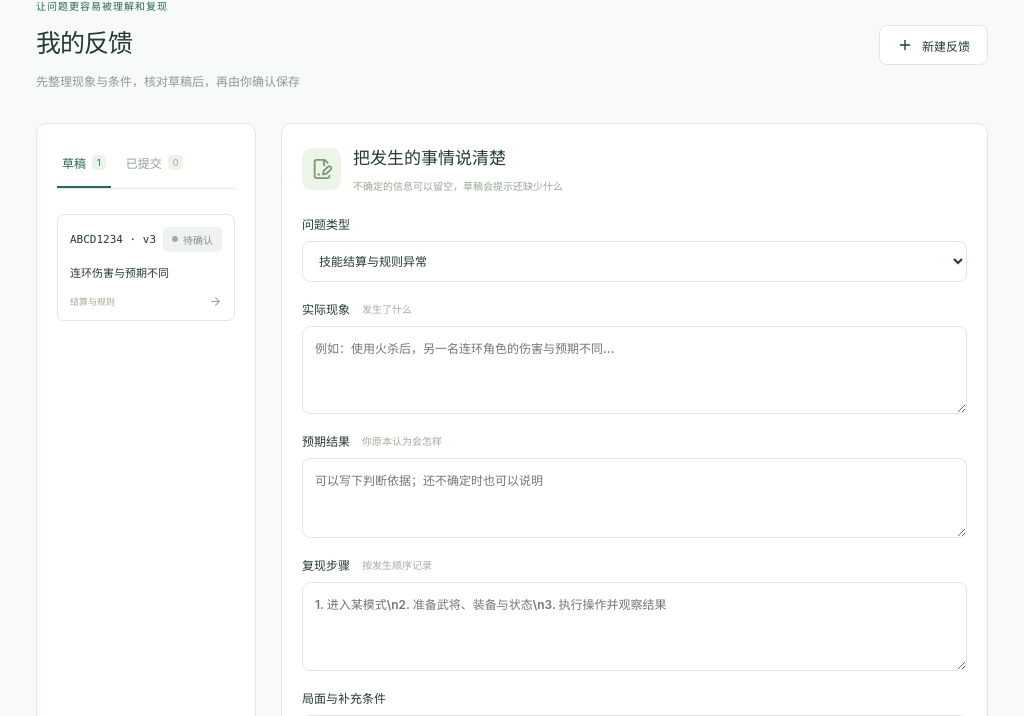
Test: requires an explicit confirmation and submits the displayed draft revision only once
Click the text "连环伤害与预期不同" at (120, 273), box [70,266,169,280]
(page scrolled)
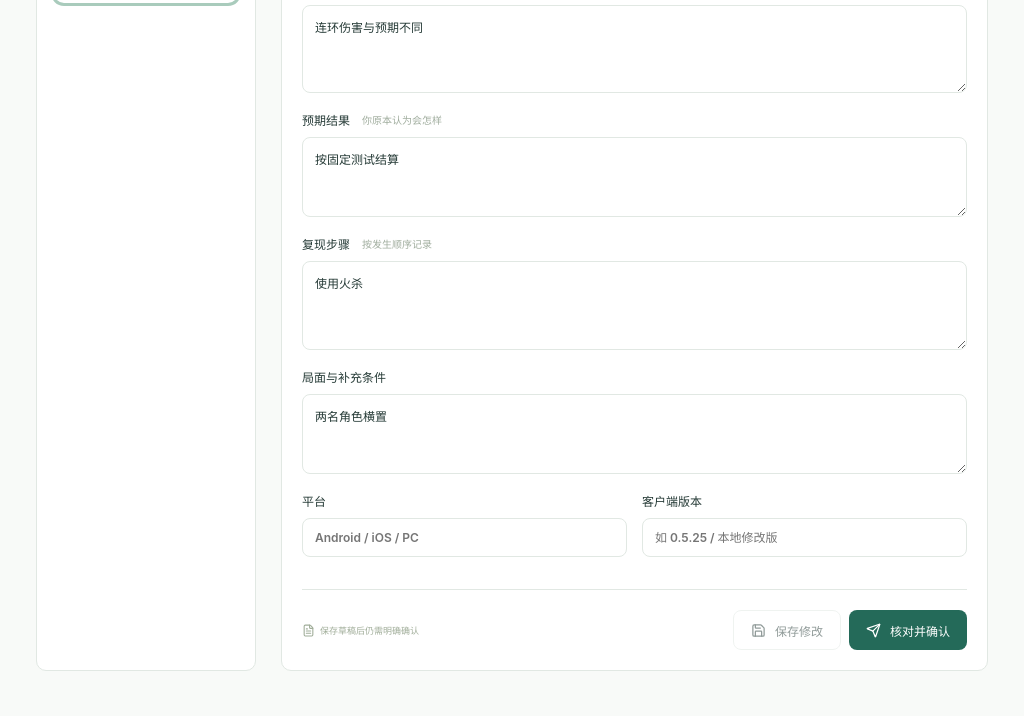
Click the button "核对并确认" at (908, 630), box [849,610,967,650]
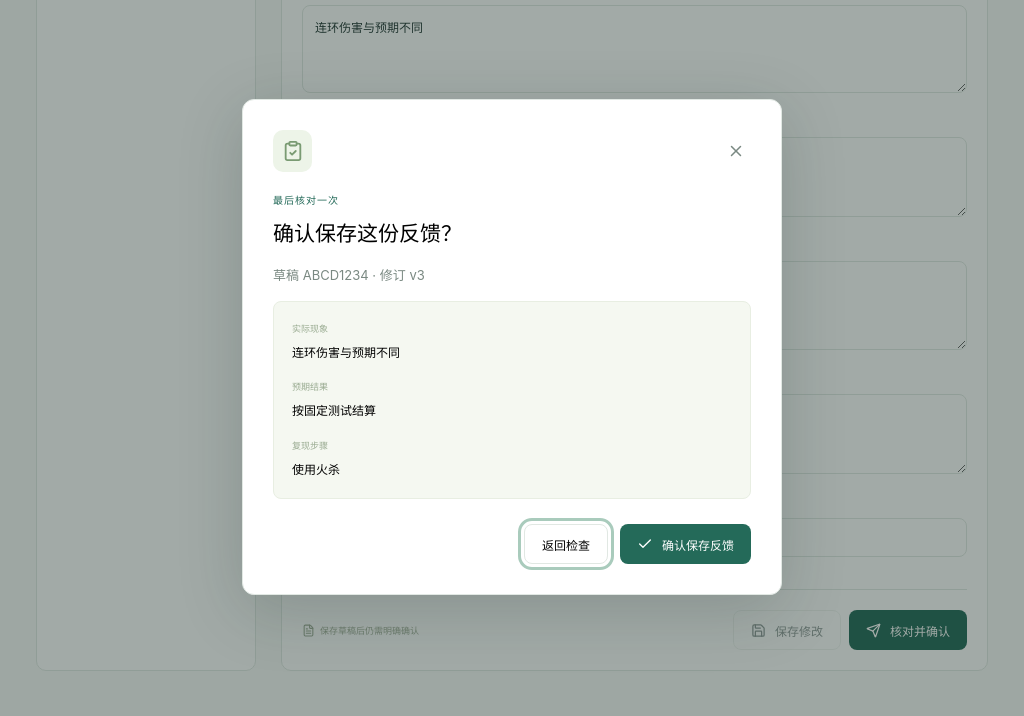
Press Escape
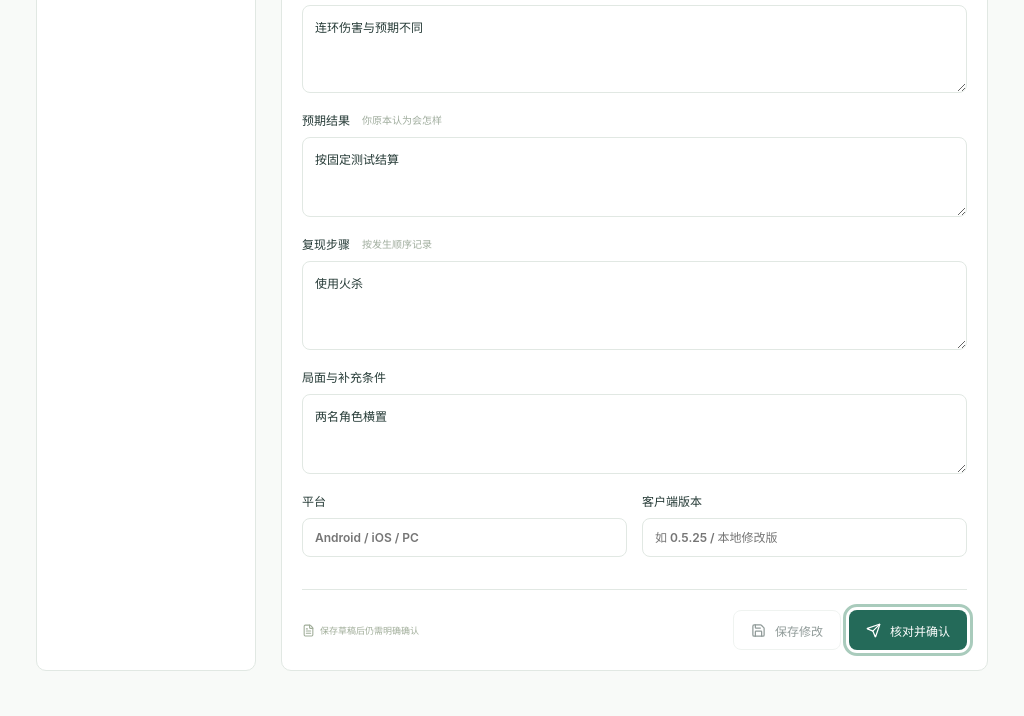
Expected: the dialog is gone
Click the button "核对并确认" at (908, 630), box [849,610,967,650]
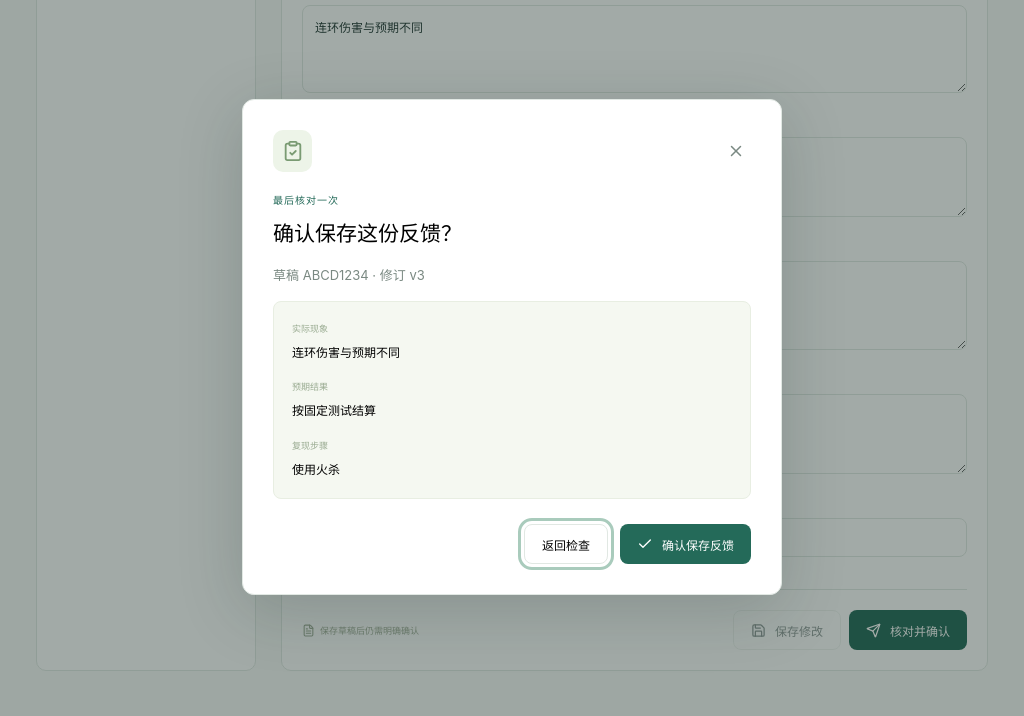
Click the button "确认保存反馈" at (686, 544), box [620,524,751,564]
(page scrolled)
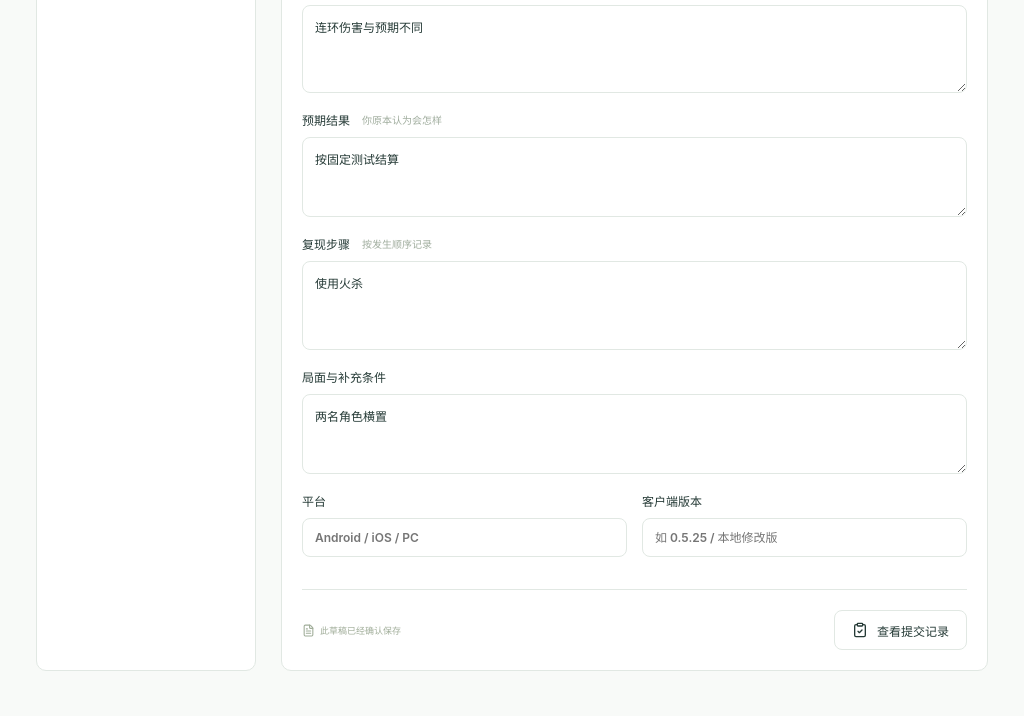
Expected: the dialog is gone
Expected: the button "核对并确认" is gone
